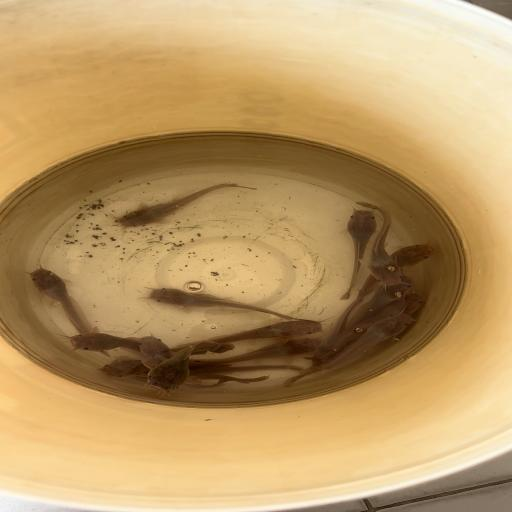lele: (285, 313, 415, 388), (26, 264, 112, 358), (140, 286, 328, 327), (112, 180, 258, 232), (148, 338, 234, 396), (308, 290, 374, 364), (352, 244, 436, 302), (353, 201, 405, 287), (181, 318, 324, 349), (340, 275, 415, 330), (338, 208, 376, 300), (203, 337, 321, 363), (65, 330, 145, 352), (184, 361, 307, 374), (384, 292, 432, 318), (178, 371, 274, 384), (100, 356, 146, 381), (135, 335, 174, 364), (174, 376, 228, 392)
